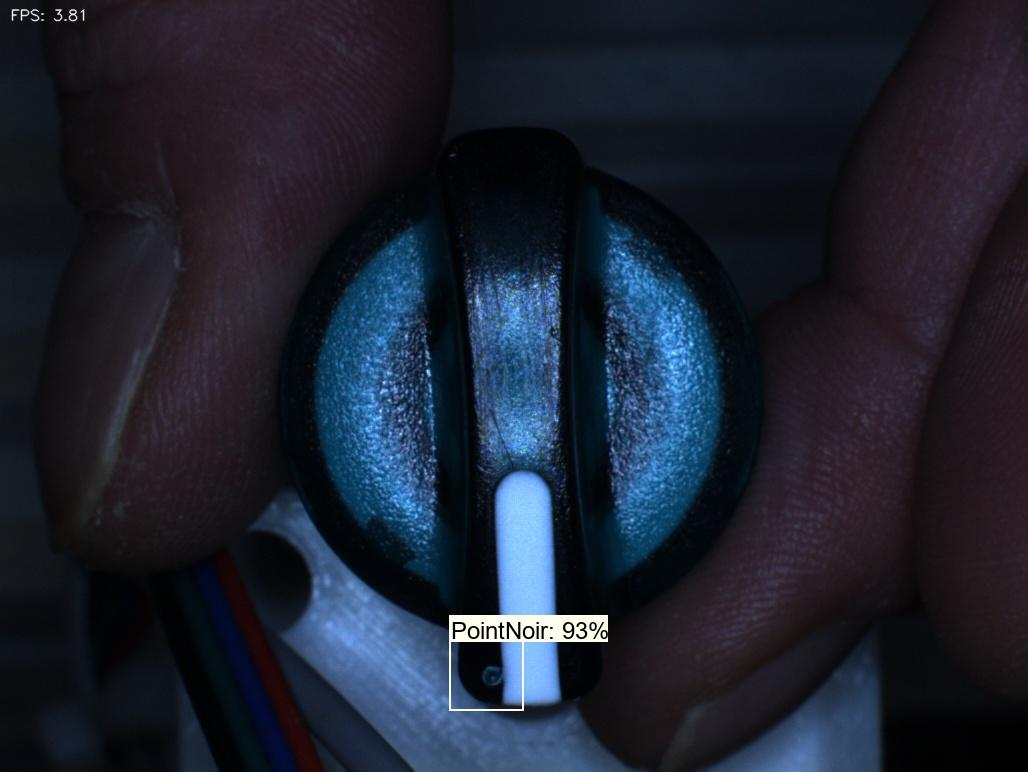Choc: (456, 648, 526, 713)
